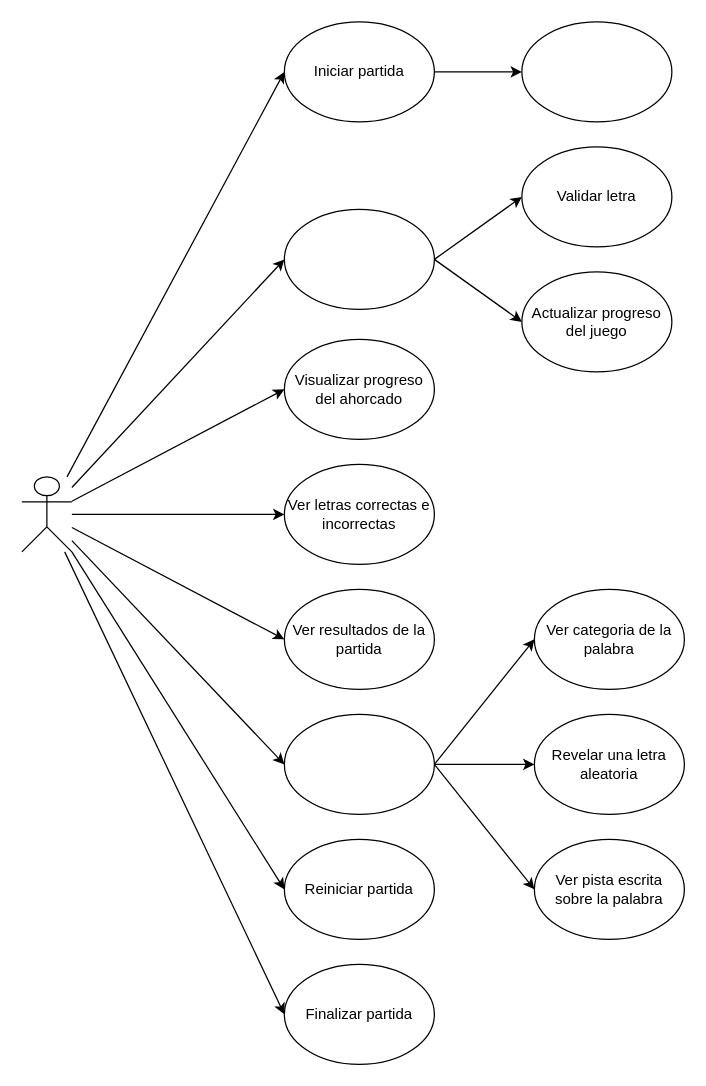
Some shapes in this 706 by 1086 pixel diagram are drawn without their labels. Here are the shapes that lost their labels. From the top down, the box of each, then its label:
(521, 21, 672, 122): Seleccionar palabra aleatoria del banco
(283, 208, 434, 309): Adivinar una letra
(21, 476, 72, 552): Actor
(283, 713, 434, 814): Solicitar pista
